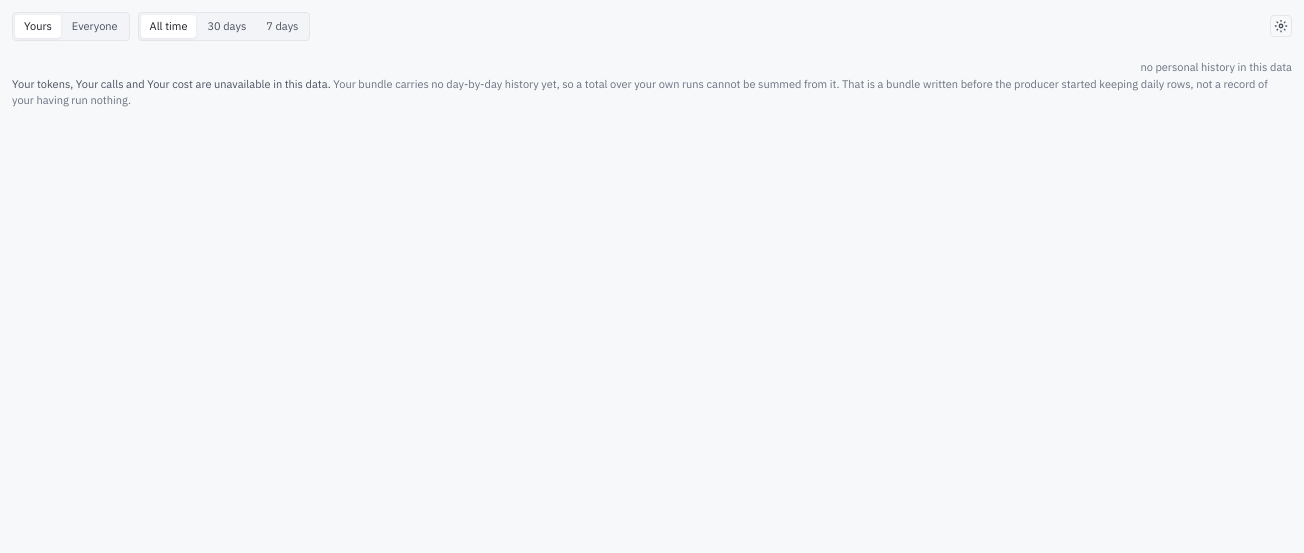
Test: MetricBlock — every metric unavailable for one structural reason › agrees with one figure as well as three, since the row can be one
Click the button with test id "metric-picker-toggle" at (1281, 26), box [1270, 15, 1292, 37]
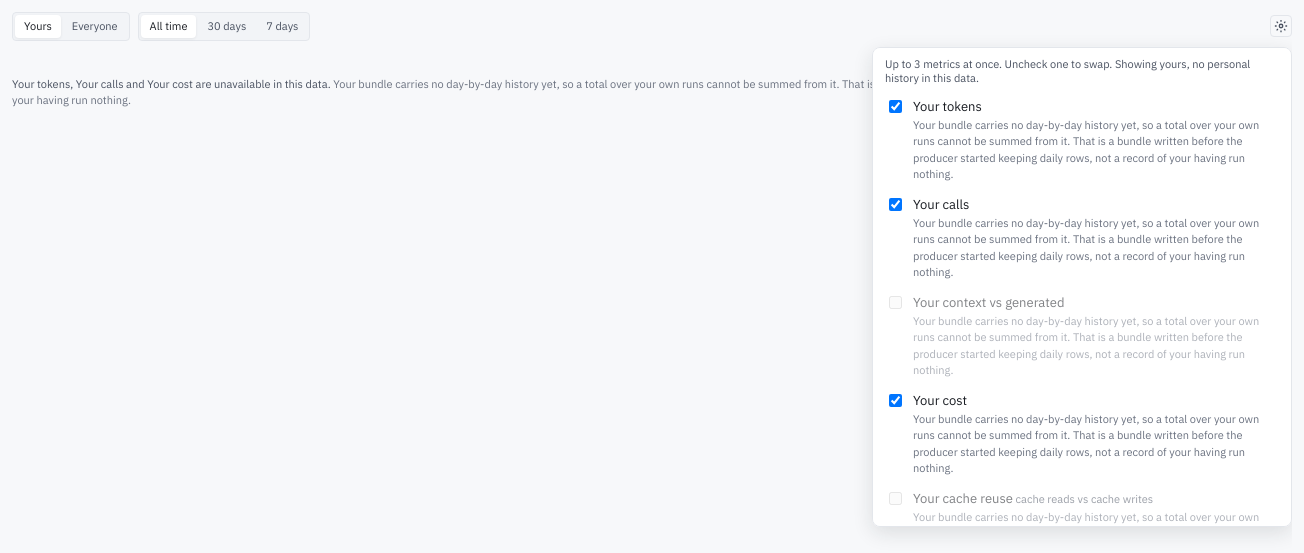
Click the 1st checkbox at (896, 106), box [889, 100, 902, 112]
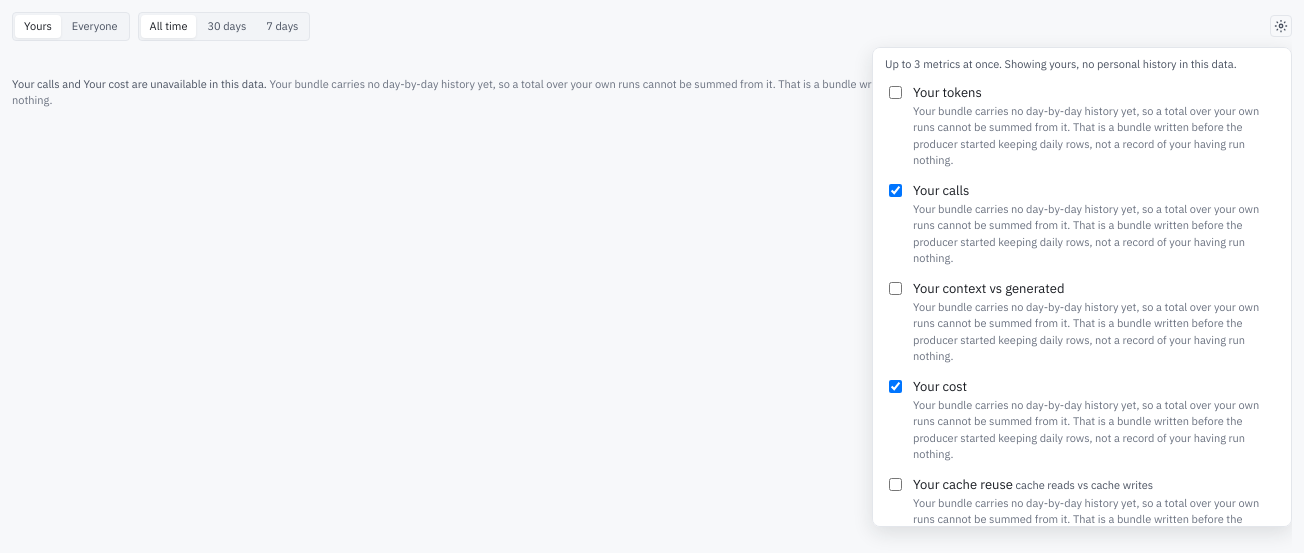
Click the 2nd checkbox at (896, 190), box [889, 184, 902, 196]
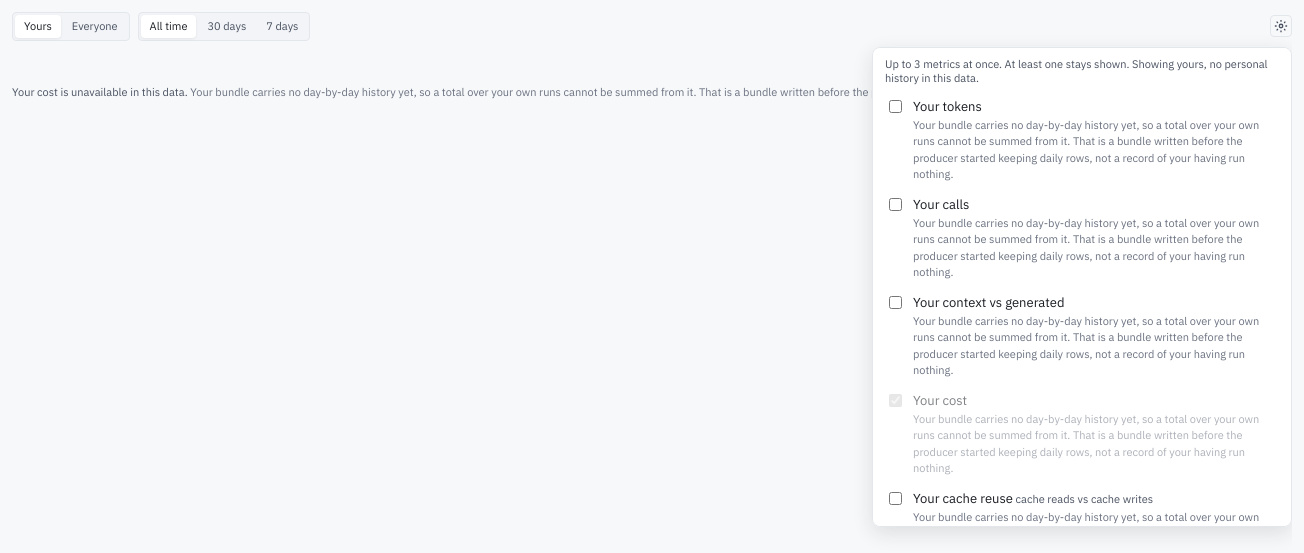
Result: the element with test id "metric-block-collapsed" shows "Your cost is unavailable in this data." at [12, 85, 188, 99]
